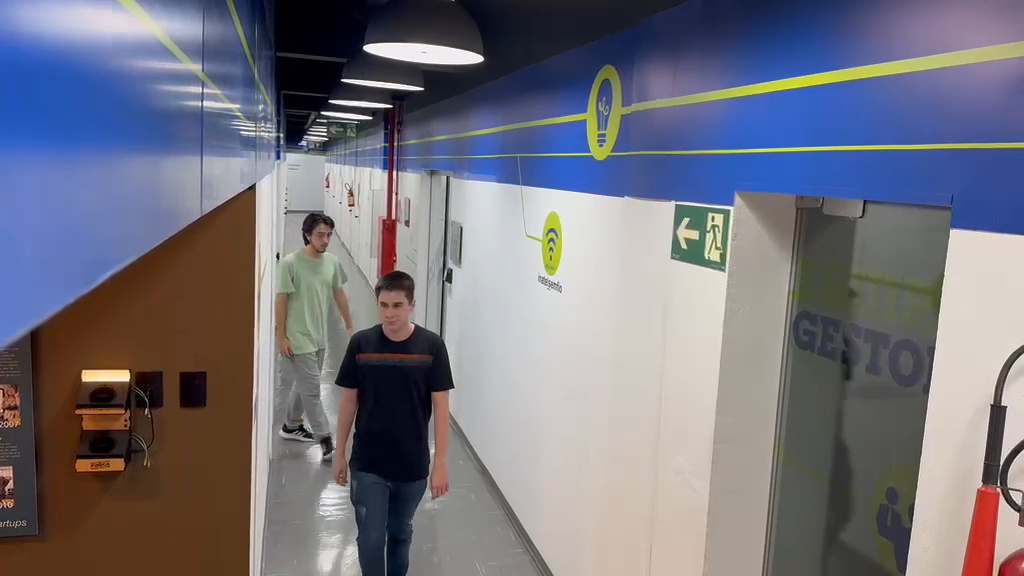person: (332, 270, 455, 573), (275, 211, 354, 463)
